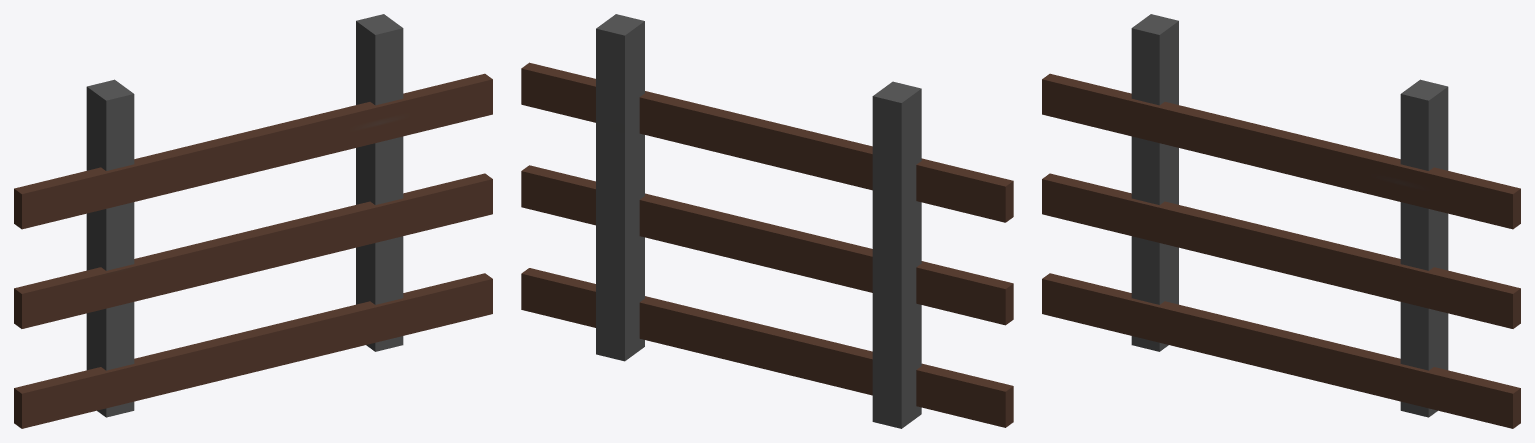
File: TrainTracks.fbx
3 renders of one model, left to right at view 1: azimuth 30°, elevation 25°; view 2: azimuth 150°, elevation 25°; view 3: azimuth 330°, elevation 25°, orthographic. The views are drawn at different scales.
Visible parts, largest first — view 1: Cube.001; view 2: Cube.001; view 3: Cube.001.
Part boxes in pixels (bbox=[...]): Cube.001: bbox=[14, 14, 492, 428]; Cube.001: bbox=[521, 14, 1013, 428]; Cube.001: bbox=[1042, 14, 1520, 428].
Bounding box in the file's own units: 438 × 282 × 35.48.
Materials: 1 (1 with a texture image).
